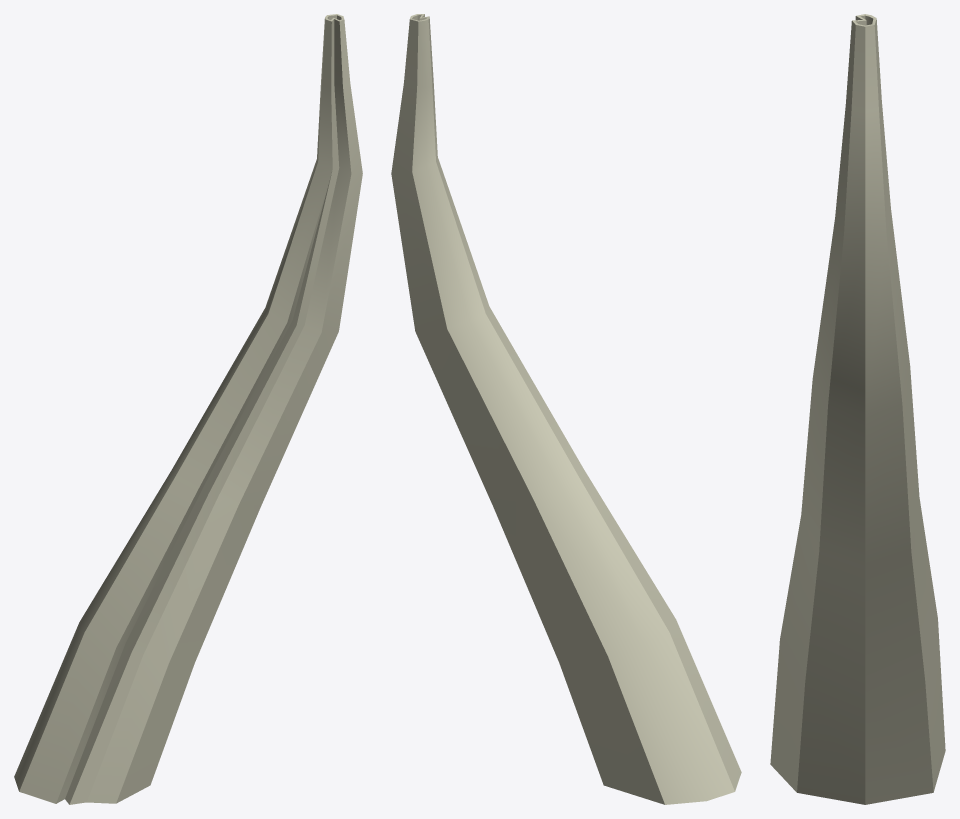
File: SM_Bone_01.fbx
3 renders of one model, left to right at view 1: azimuth 30°, elevation 25°; view 2: azimuth 150°, elevation 25°; view 3: azimuth 270°, elevation 25°, orthographic. The views are drawn at different scales.
Parts seen in each view (by area): view 1: Bone_01; view 2: Bone_01; view 3: Bone_01.
Boxes of the visible parts, <box> form: Bone_01: <box>14,14,362,804</box>; Bone_01: <box>391,14,741,804</box>; Bone_01: <box>770,14,945,804</box>.
Bounding box in the file's own units: 167 × 328 × 57.23.
